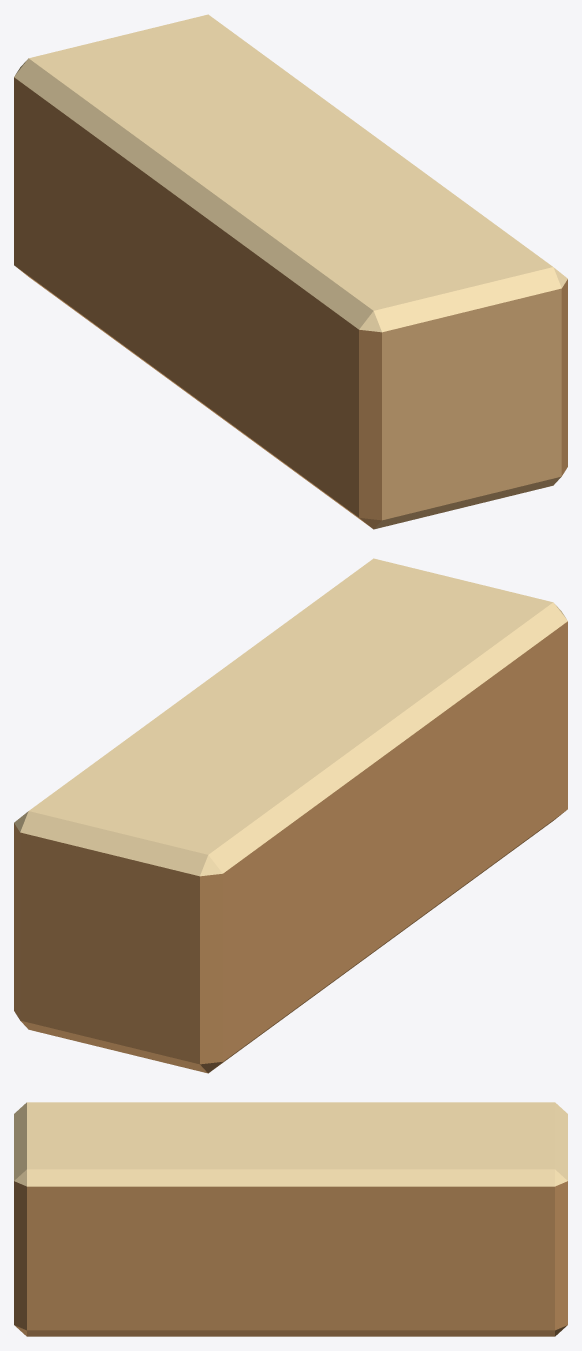
File: stone_block_1m.glb
3 views of the same model, one above another, from view 1: azimuth 30°, elevation 25°; view 2: azimuth 150°, elevation 25°; view 3: azimuth 270°, elevation 25° (orthographic). The views are drawn at different scales.
Parts seen in each view (by area): view 1: stone_block_1m; view 2: stone_block_1m; view 3: stone_block_1m.
Boxes of the visible parts, bbox=[...] form: stone_block_1m: bbox=[14, 14, 567, 529]; stone_block_1m: bbox=[14, 558, 567, 1073]; stone_block_1m: bbox=[14, 1102, 567, 1336].
Size of the model in its own units: 1 by 1 by 3.
1 material, 1 textured.
